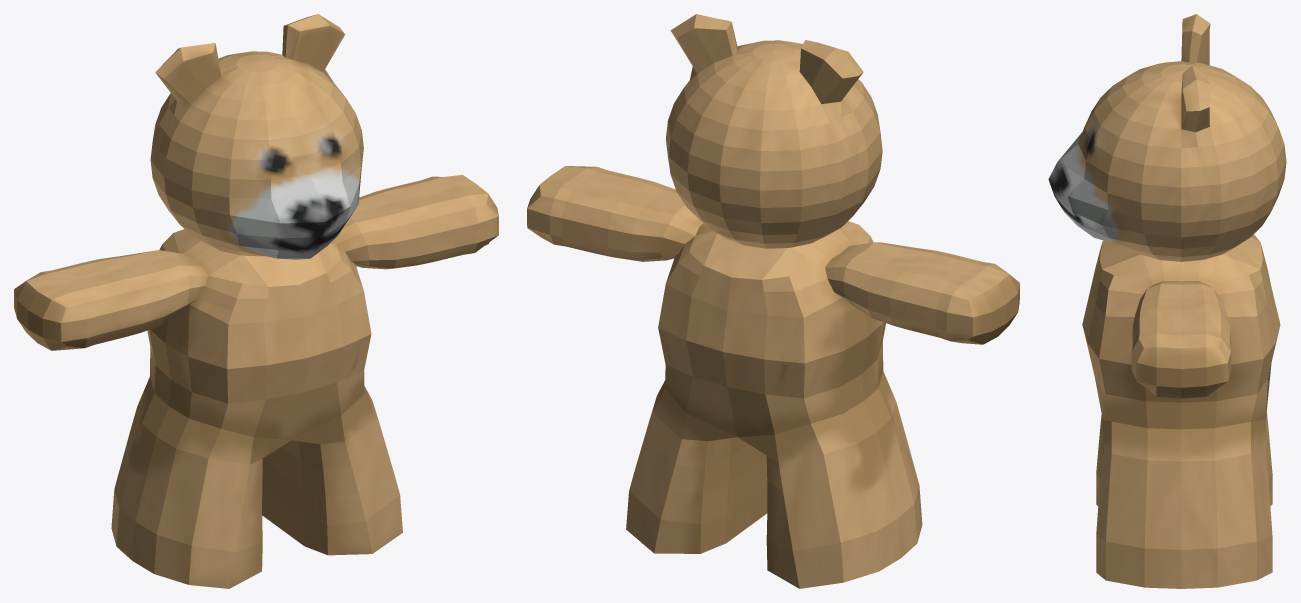
File: TeddyBearCitizen.fbx
3 renders of one model, left to right at view 1: azimuth 30°, elevation 25°; view 2: azimuth 150°, elevation 25°; view 3: azimuth 270°, elevation 25°, orthographic. The views are drawn at different scales.
Parts seen in each view (by area): view 1: TeddyBear; view 2: TeddyBear; view 3: TeddyBear.
Boxes of the visible parts, bbox=[...] form: TeddyBear: bbox=[14, 14, 498, 588]; TeddyBear: bbox=[527, 14, 1019, 588]; TeddyBear: bbox=[1048, 14, 1286, 588].
Size of the model in its own units: 198 by 208 by 91.26.
